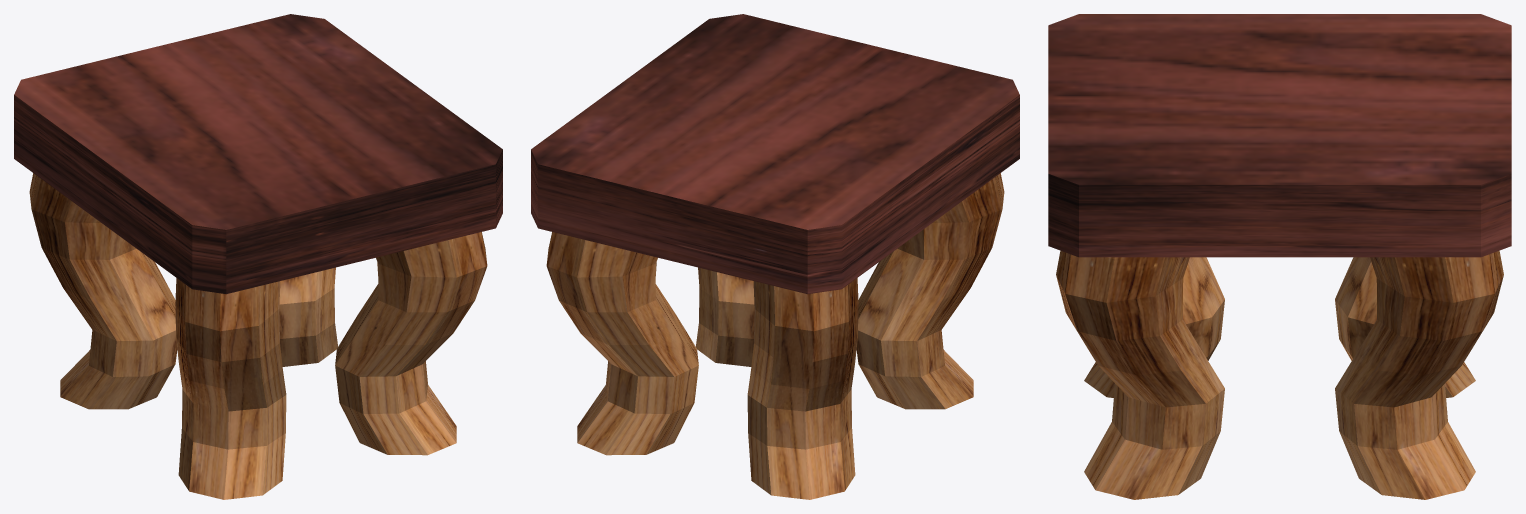
File: SideTable.fbx
The picture shows the model from 3 angles, left to right: view 1: azimuth 30°, elevation 25°; view 2: azimuth 150°, elevation 25°; view 3: azimuth 270°, elevation 25°; orthographic projection. The views are drawn at different scales.
Parts seen in each view (by area): view 1: Cube.033, Cylinder.022; view 2: Cube.033, Cylinder.022; view 3: Cube.033, Cylinder.022.
Boxes of the visible parts, x1=… form: Cube.033: x1=14, y1=14, x2=502, y2=294; Cylinder.022: x1=29, y1=173, x2=487, y2=499; Cube.033: x1=531, y1=14, x2=1019, y2=294; Cylinder.022: x1=546, y1=173, x2=1004, y2=499; Cube.033: x1=1048, y1=14, x2=1511, y2=257; Cylinder.022: x1=1056, y1=250, x2=1503, y2=499.
Bounding box in the file's own units: 64.08 × 73.32 × 57.1.
